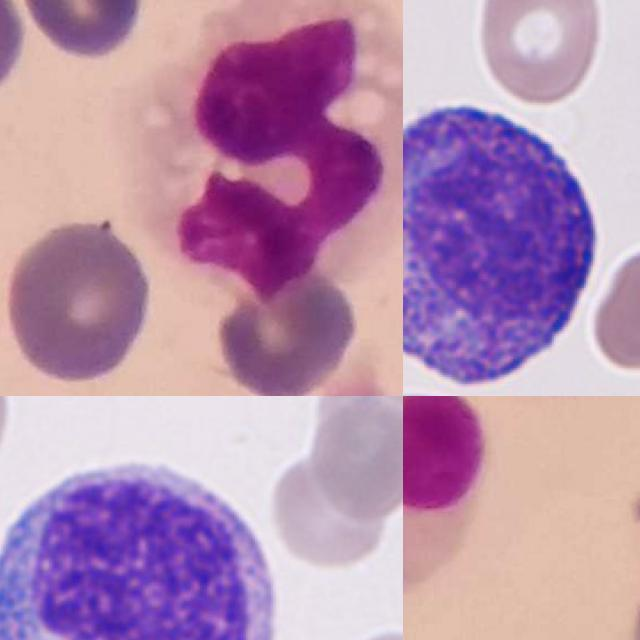Eosinophil: (403, 396, 488, 606)
Lymphocyte: (403, 85, 616, 396), (0, 442, 294, 640)
Monocyte: (137, 0, 403, 296)
RBC: (264, 446, 392, 576), (470, 0, 608, 106), (306, 401, 403, 524), (587, 240, 640, 375)
